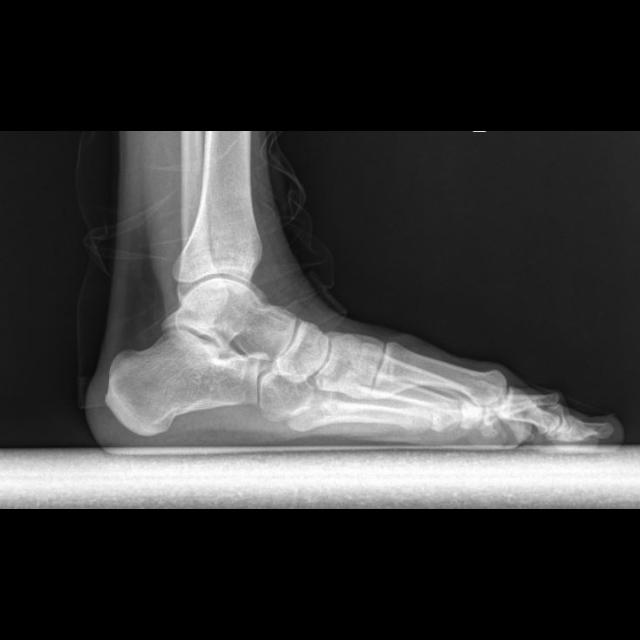a: (108, 330, 265, 442)
b: (272, 320, 330, 383)
c: (372, 364, 483, 430)
